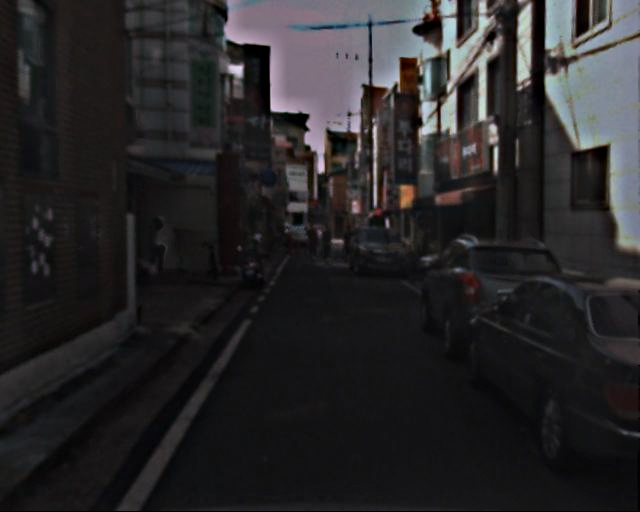person: (146, 214, 172, 278), (319, 223, 336, 265), (304, 220, 321, 262), (341, 225, 358, 266)
